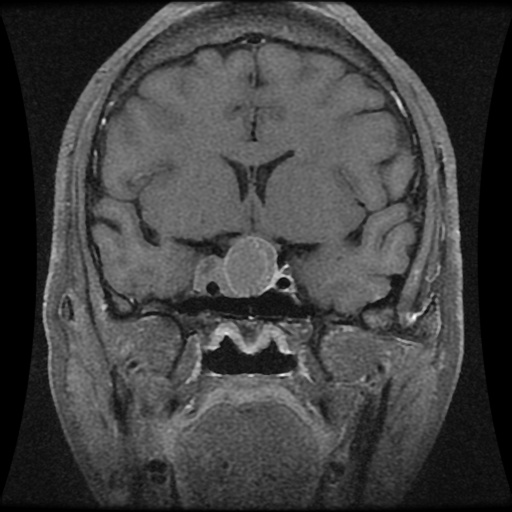pituitary: (195, 236, 278, 296)
